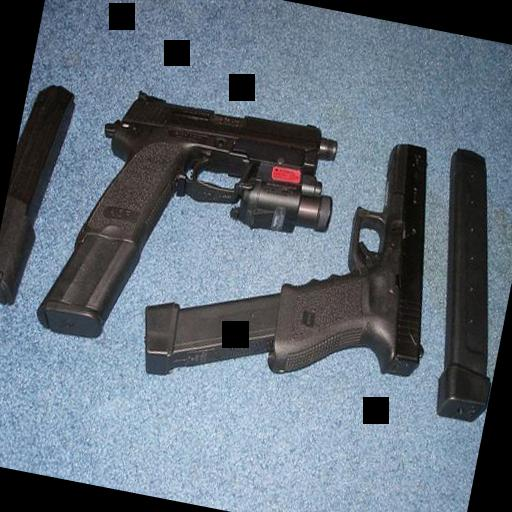Handgun: (73, 80, 349, 284), (263, 120, 462, 402)
